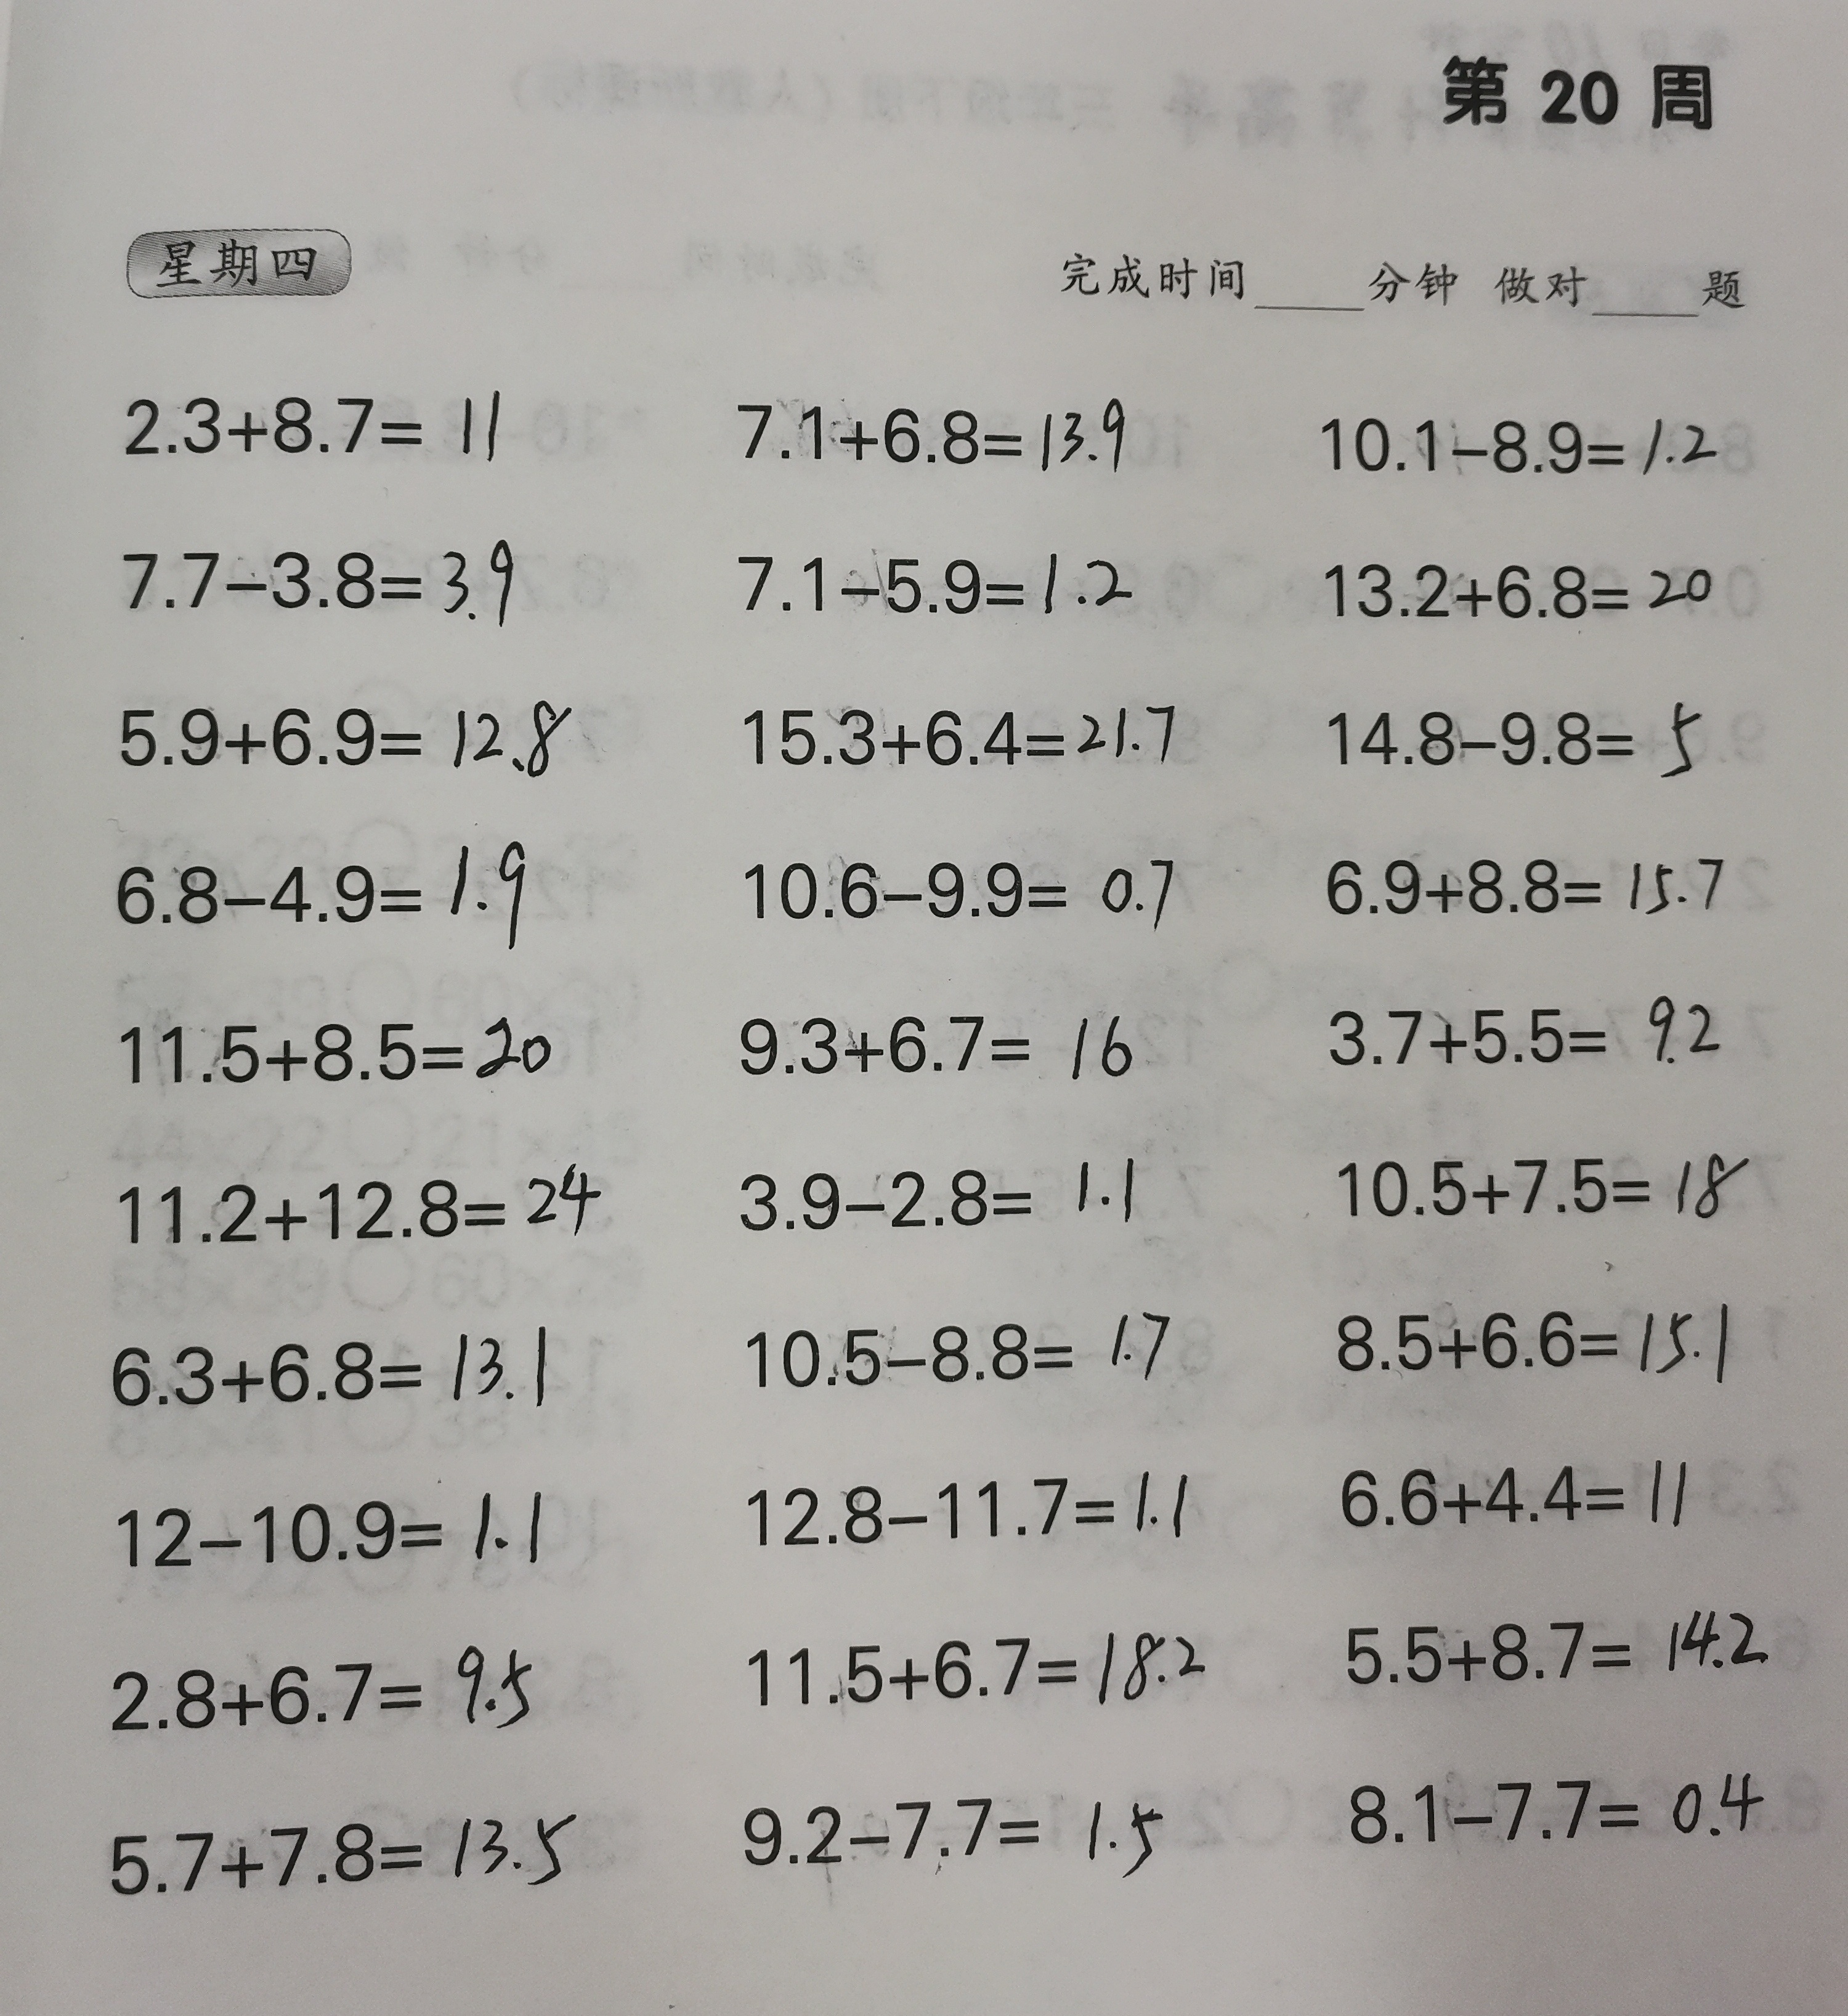equation: (720, 1774, 1193, 1912), (1306, 351, 1753, 497), (1316, 1749, 1794, 1884), (112, 1454, 570, 1595), (723, 1438, 1214, 1568), (93, 662, 572, 794), (90, 1296, 577, 1422), (716, 1609, 1234, 1726), (97, 1793, 591, 1916), (732, 1280, 1200, 1408), (84, 976, 579, 1098), (93, 513, 548, 644), (1322, 1271, 1783, 1400), (97, 1148, 623, 1259), (88, 1626, 555, 1751), (95, 827, 549, 952), (1300, 671, 1736, 801), (711, 516, 1153, 641), (720, 827, 1207, 940), (1325, 1586, 1802, 1700), (721, 364, 1142, 490), (716, 975, 1153, 1094), (107, 342, 537, 464), (728, 1124, 1164, 1243), (739, 673, 1195, 783), (1309, 825, 1744, 940), (1327, 1126, 1769, 1236), (1302, 973, 1748, 1082), (1309, 536, 1751, 641), (1329, 1433, 1708, 1554)
